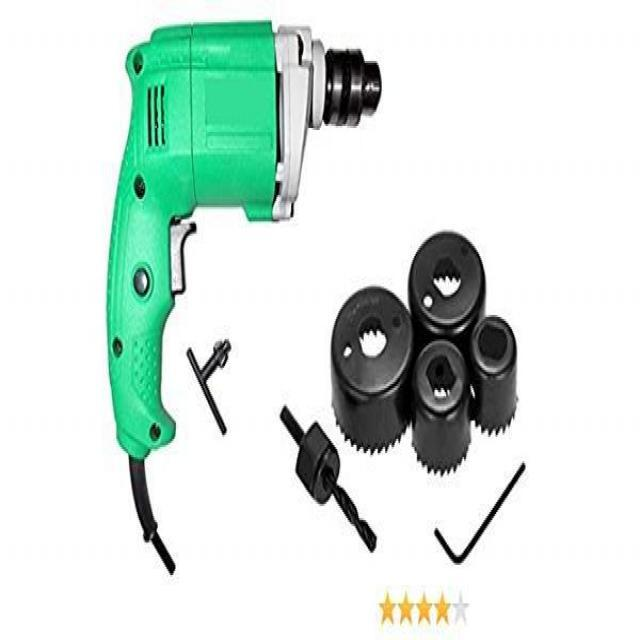drill: (105, 18, 382, 544)
